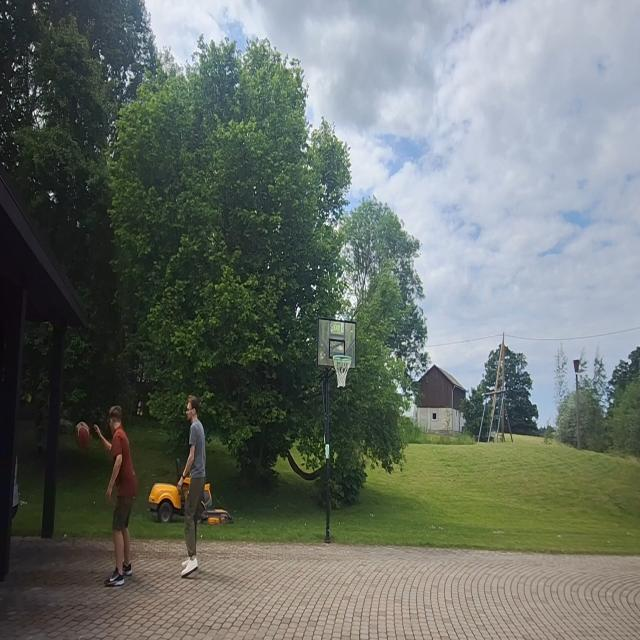ball: (75, 420, 91, 449)
basket: (333, 353, 351, 389)
player: (93, 405, 137, 586), (178, 394, 206, 579)
